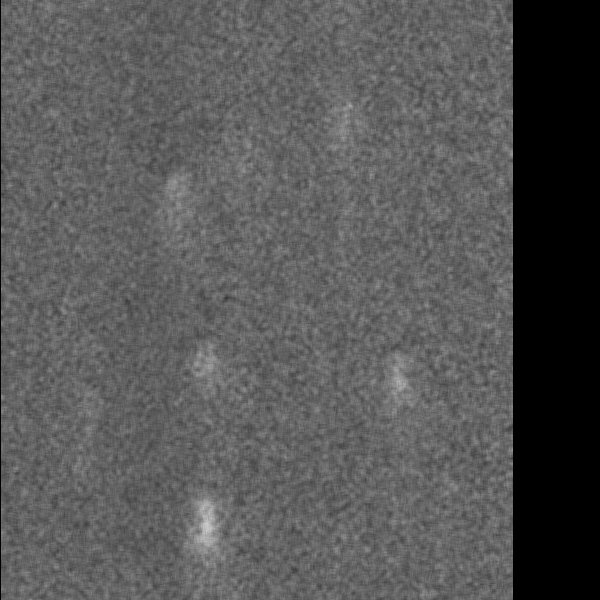spark: (191, 488, 222, 595), (177, 332, 220, 406), (382, 345, 410, 430), (164, 166, 180, 249)
